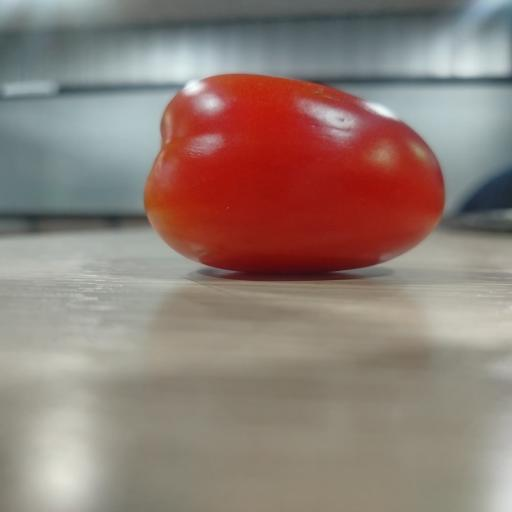ripe: (144, 74, 444, 273)
